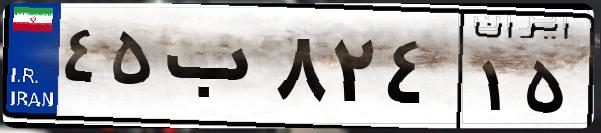1: (475, 38, 525, 113)
2: (330, 28, 385, 110)
4: (385, 28, 445, 110), (57, 26, 110, 100)
5: (525, 38, 570, 115), (110, 28, 158, 98)
8: (270, 28, 330, 110)
ب: (158, 20, 270, 120)
